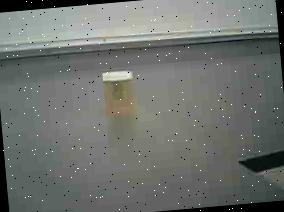Bottle B: (94, 63, 150, 123)
